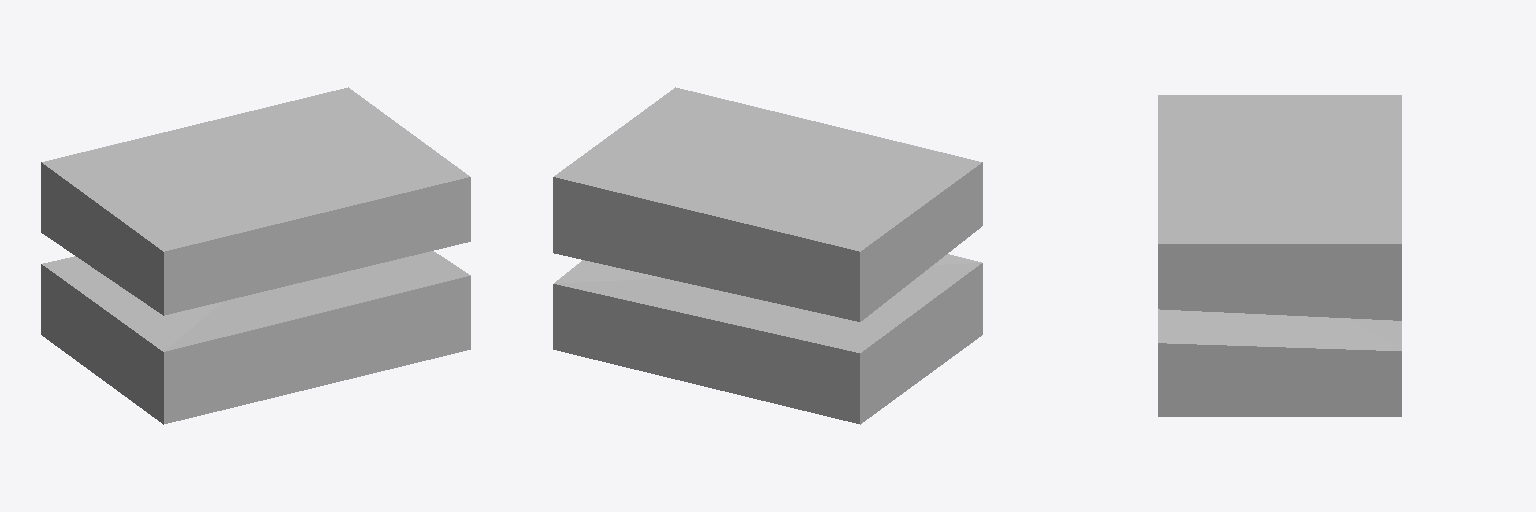
Rendered from sideblock_break2.obj.
3 renders of one model, left to right at view 1: azimuth 30°, elevation 25°; view 2: azimuth 150°, elevation 25°; view 3: azimuth 270°, elevation 25°, orthographic.
Parts seen in each view (by area): view 1: sideblock_break2; view 2: sideblock_break2; view 3: sideblock_break2.
Part boxes in pixels (left/top/right/bottom): sideblock_break2: left=41, top=87, right=470, bottom=424; sideblock_break2: left=553, top=87, right=982, bottom=424; sideblock_break2: left=1158, top=95, right=1401, bottom=416.
Bounding box in the file's own units: 0.435 × 0.234 × 0.3.